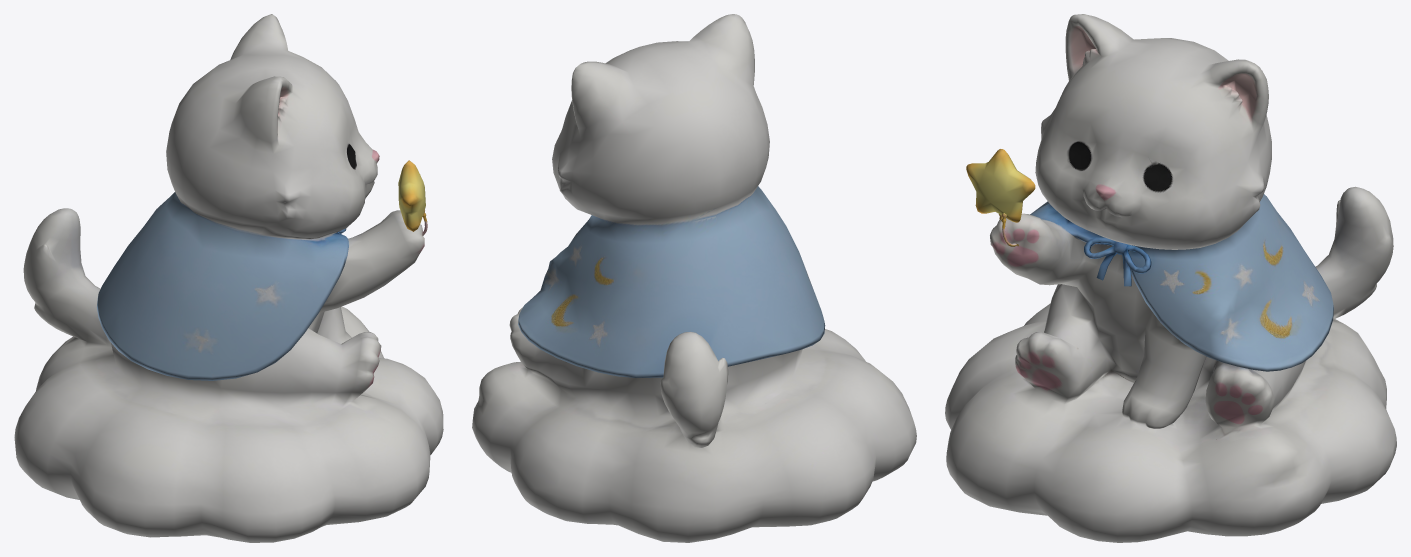
Rendered from figurine-v2-cat-star.glb.
3 renders of one model, left to right at view 1: azimuth 30°, elevation 25°; view 2: azimuth 150°, elevation 25°; view 3: azimuth 270°, elevation 25°, orthographic. The views are drawn at different scales.
Parts seen in each view (by area): view 1: tripo_node_af37743d-03f9-4983-8c5c-c73d7031e68b; view 2: tripo_node_af37743d-03f9-4983-8c5c-c73d7031e68b; view 3: tripo_node_af37743d-03f9-4983-8c5c-c73d7031e68b.
Part boxes in pixels (x1,y1,x2,y2): tripo_node_af37743d-03f9-4983-8c5c-c73d7031e68b: [14, 14, 443, 542]; tripo_node_af37743d-03f9-4983-8c5c-c73d7031e68b: [472, 14, 916, 542]; tripo_node_af37743d-03f9-4983-8c5c-c73d7031e68b: [945, 14, 1396, 542].
Bounding box in the file's own units: 0.9257 × 0.9995 × 0.9125.
1 material, 1 textured.
